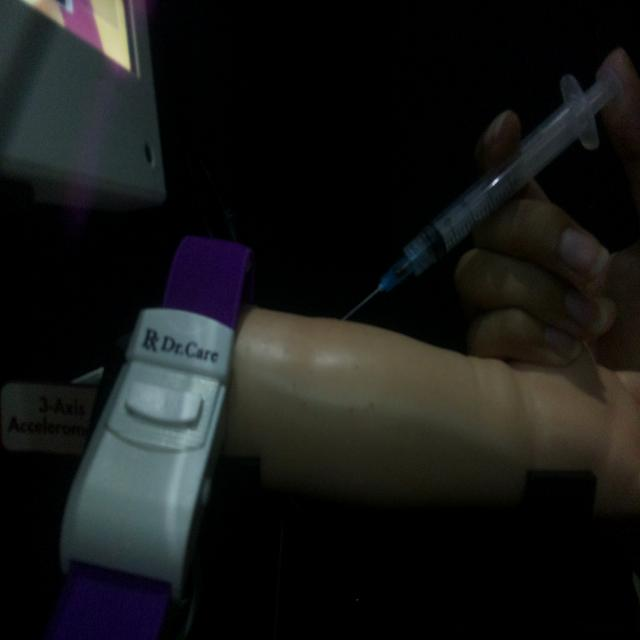30 degrees: (341, 62, 624, 322)
